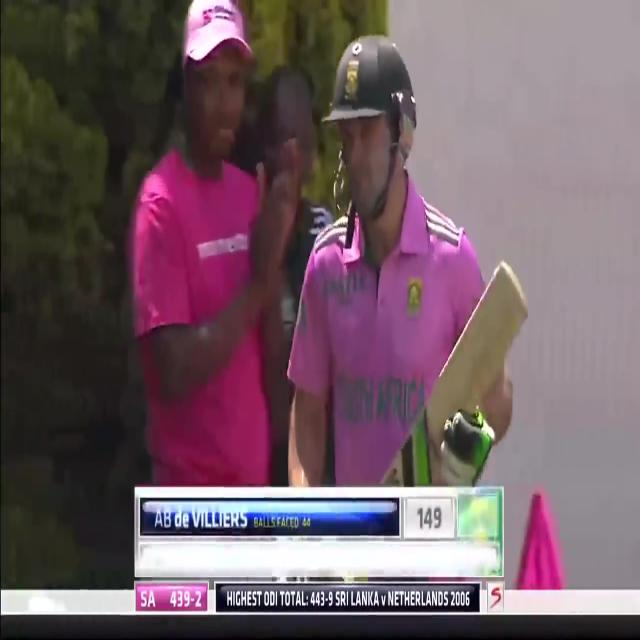Ball: (64, 0, 364, 494), (282, 23, 532, 489)
